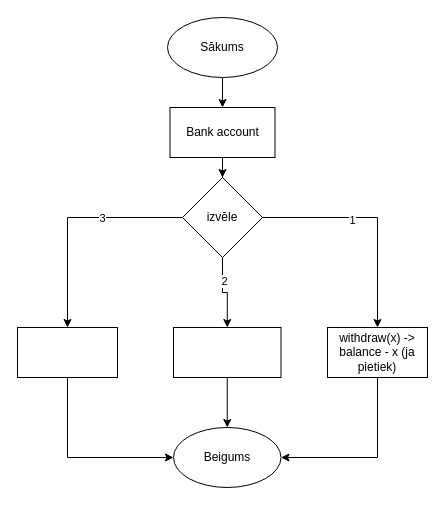
This 445x505 diagram has some shape labels left out. The shapes that lost their labels are listed below. From the top down, each one's centre as x and y in pixels, then its label:
the point at 67,352: deposit(x) -> balance + x
the point at 226,352: info() -> izvada owner, balance
